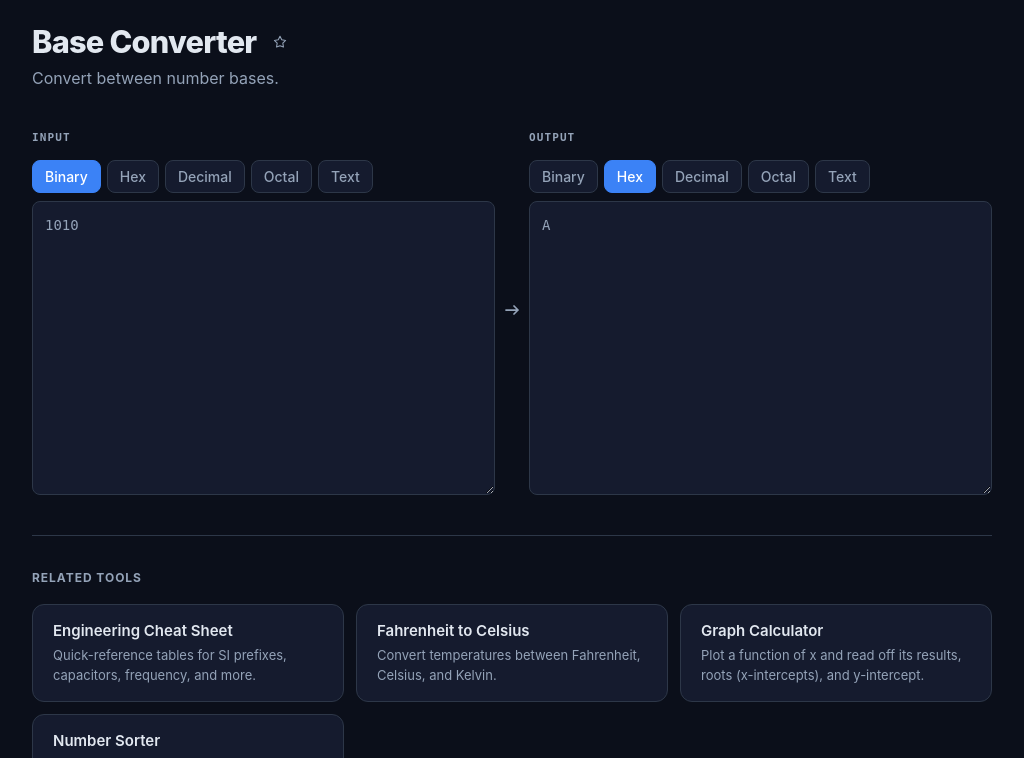
Test case: BaseConverter › converts text to hex
Click the button "Text" below "Input". click: [345, 176]
box: [318,160,373,193]
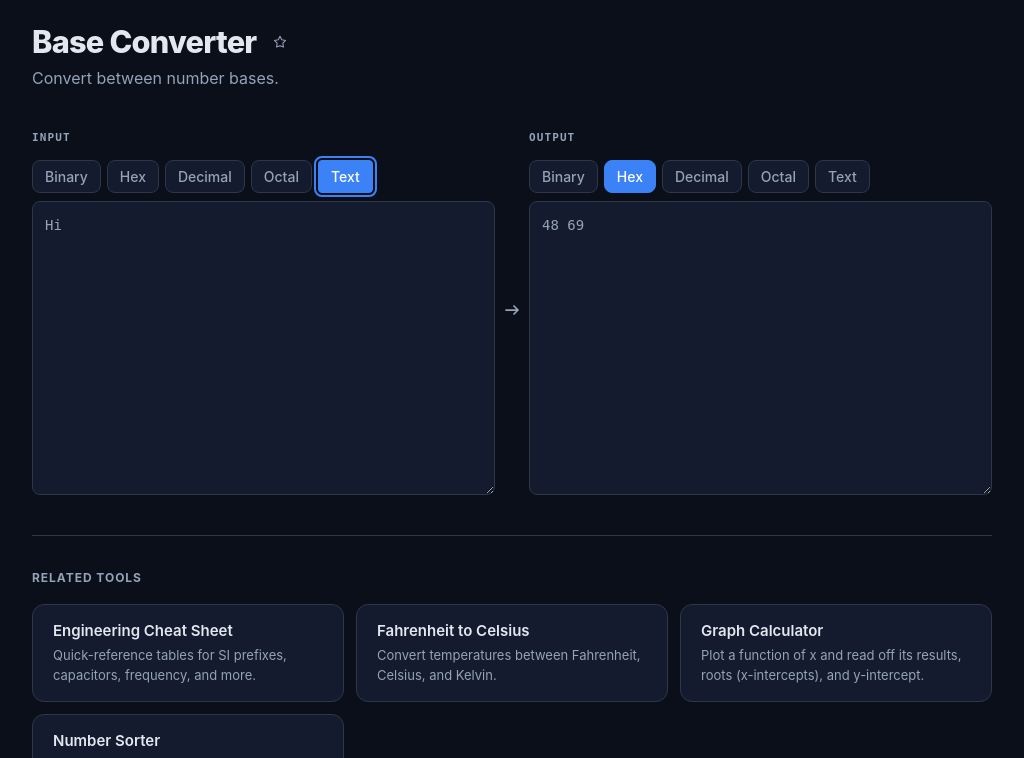
Click the button "Hex" below "Output". click: [630, 176]
box: [604,160,656,193]
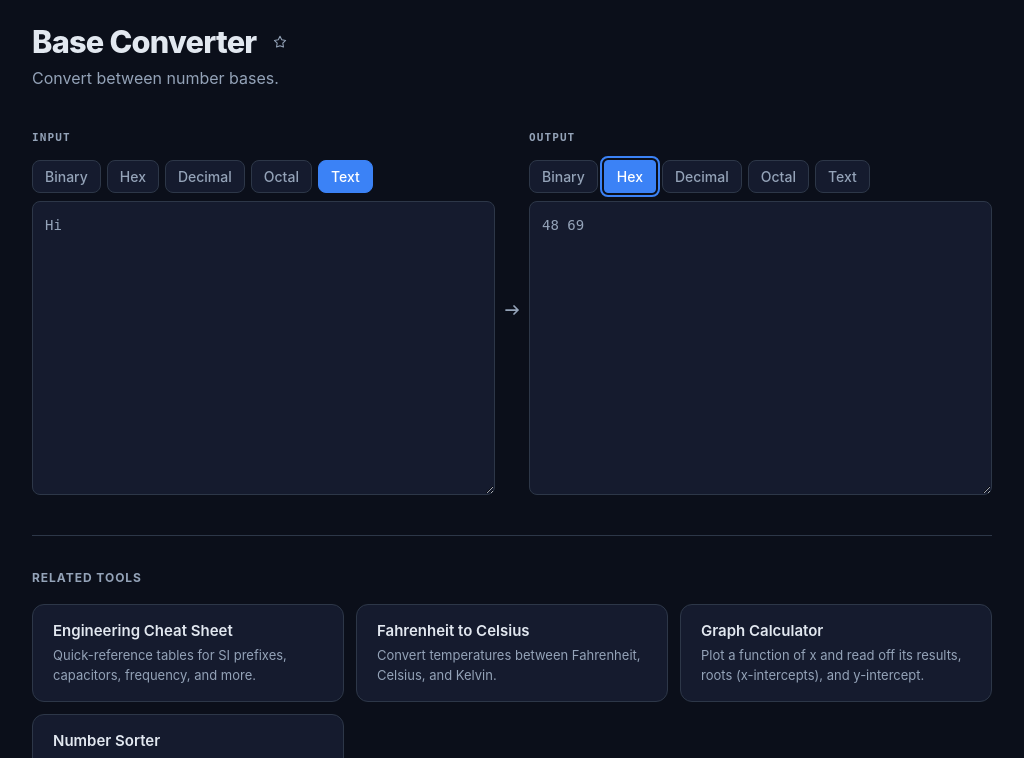
Type "A" into the text box named "input". click: [264, 348]
box: [32,201,495,495]
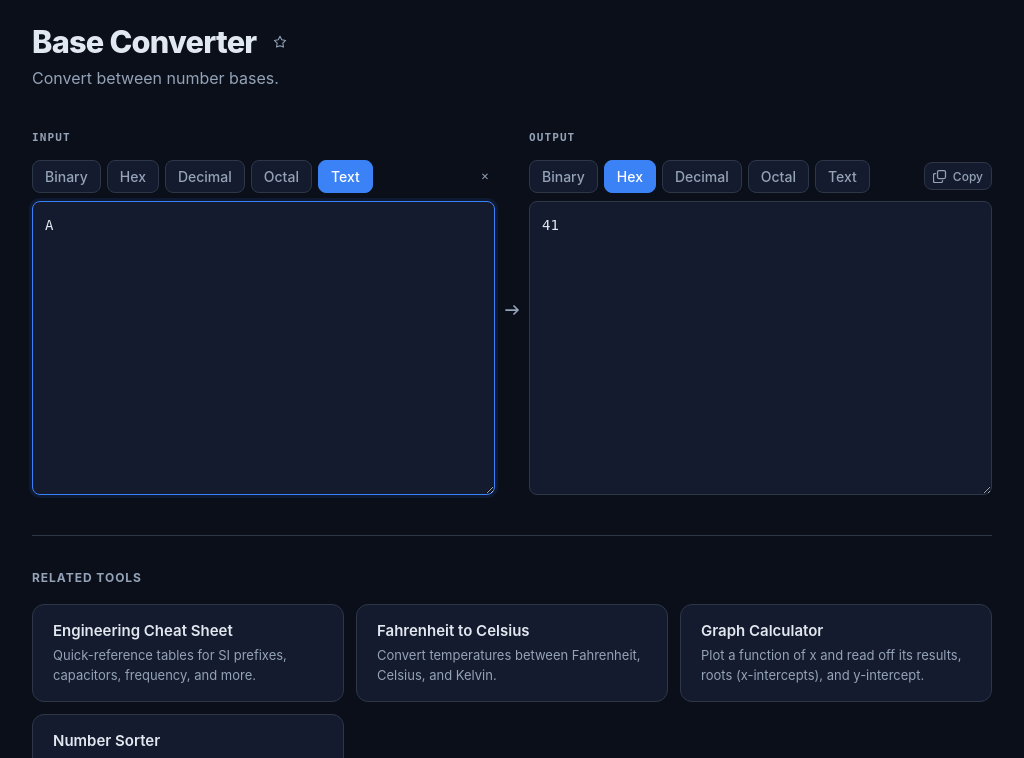
Result: the text box named "output" holds "41" at [529,201,992,495]
